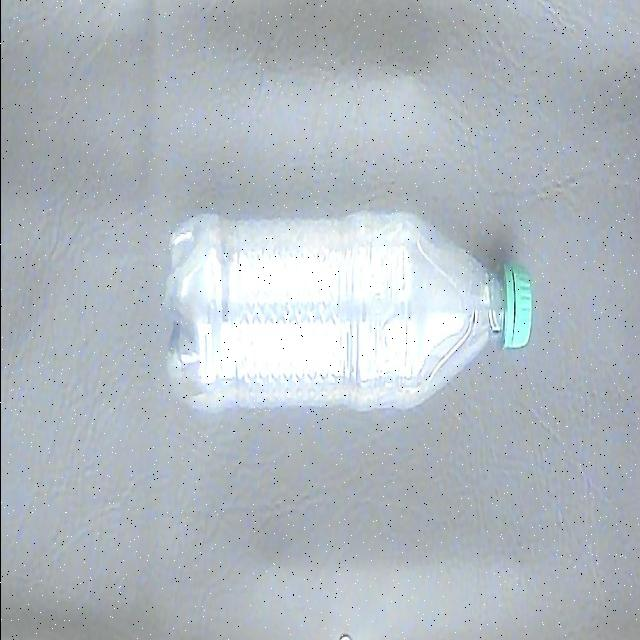plastic: (155, 212, 536, 420)
